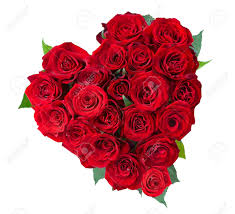rose: (67, 77, 201, 199), (36, 50, 120, 151), (115, 18, 201, 113)
